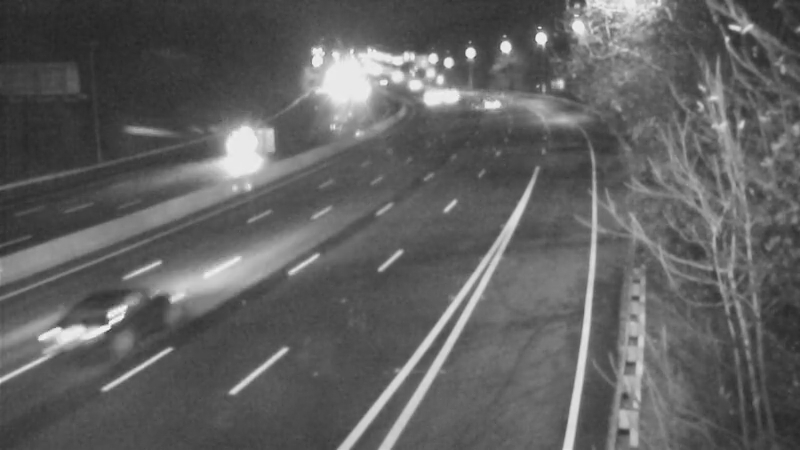vehicle: (30, 283, 140, 393), (431, 73, 481, 123), (406, 73, 456, 123), (464, 77, 514, 127), (219, 120, 269, 170)
